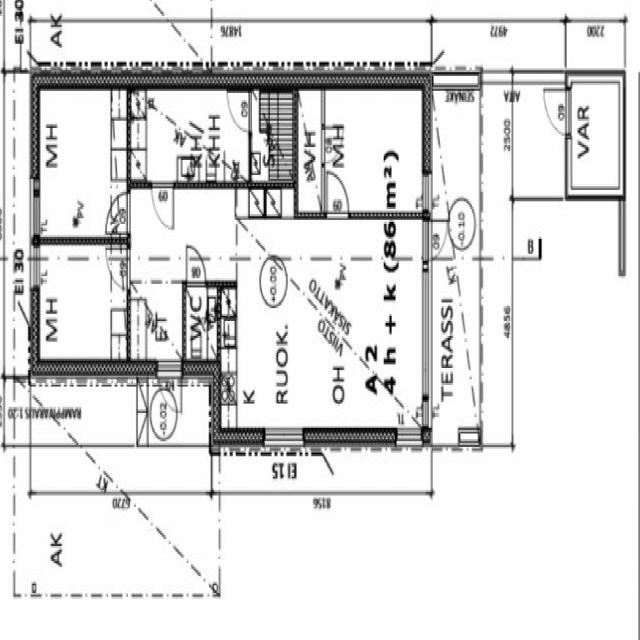door: (157, 361, 182, 424), (542, 89, 572, 134), (226, 90, 252, 132), (423, 222, 452, 259), (326, 172, 348, 219), (153, 183, 175, 229), (106, 192, 130, 234), (106, 249, 130, 290), (187, 244, 206, 287), (322, 128, 344, 164)
